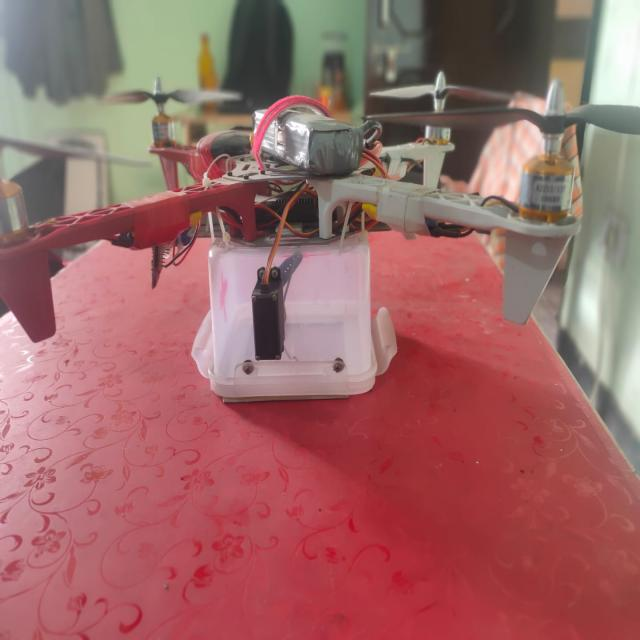Drone THREAT: (7, 40, 640, 392)
